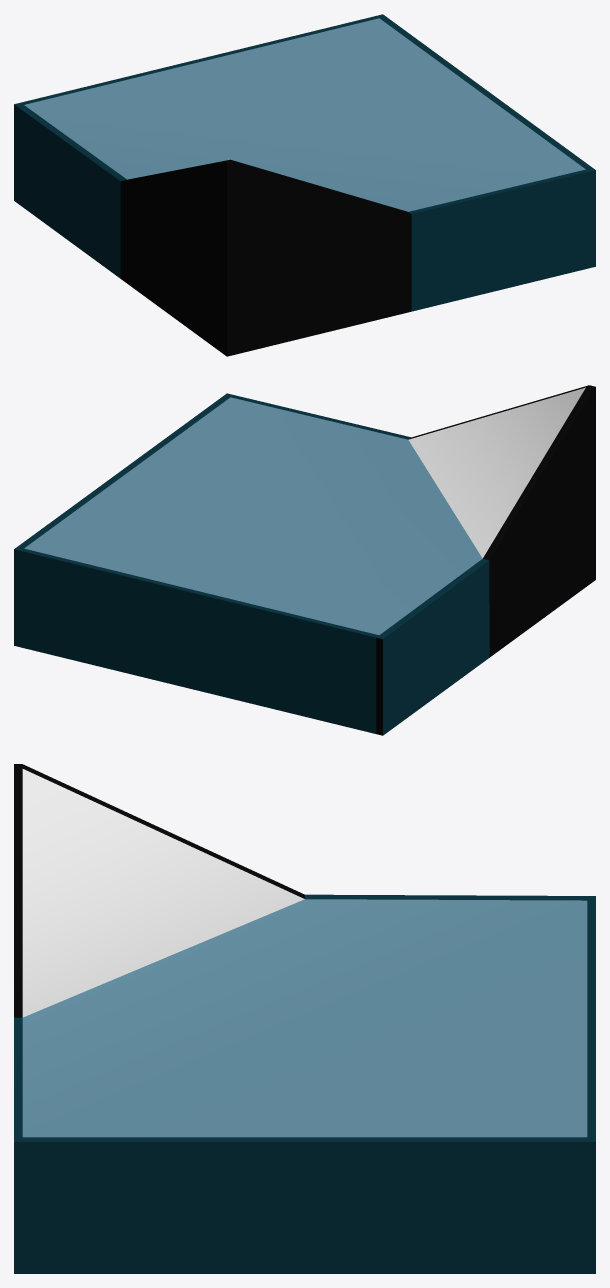
File: Agua_14.fbx
The picture shows the model from 3 angles, top to bottom: view 1: azimuth 30°, elevation 25°; view 2: azimuth 150°, elevation 25°; view 3: azimuth 270°, elevation 25°; orthographic projection. The views are drawn at different scales.
Parts seen in each view (by area): view 1: pCube6; view 2: pCube6; view 3: pCube6.
Part boxes in pixels (<box>): pCube6: <box>14,14,595,356</box>; pCube6: <box>14,385,595,735</box>; pCube6: <box>14,764,595,1273</box>.
Size of the model in its own units: 200 by 100 by 200.
